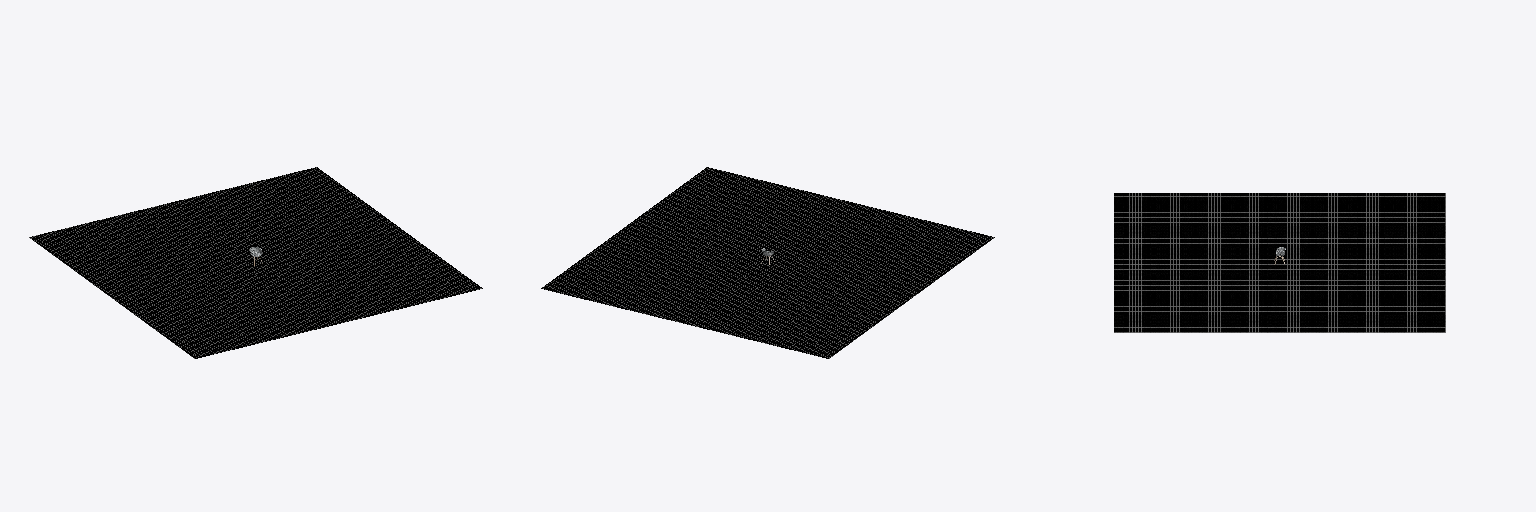
3 renders of one model, left to right at view 1: azimuth 30°, elevation 25°; view 2: azimuth 150°, elevation 25°; view 3: azimuth 270°, elevation 25°, orthographic.
Visible parts, largest first — view 1: Plane001; view 2: Plane001; view 3: Plane001.
Boxes of the visible parts, x1,y1,x2,y2 form: Plane001: [29, 167, 482, 358]; Plane001: [541, 167, 994, 358]; Plane001: [1114, 193, 1445, 332].
Bounding box in the file's own units: 62.77 × 2.93 × 62.77.
Materials: 4 (4 with a texture image).